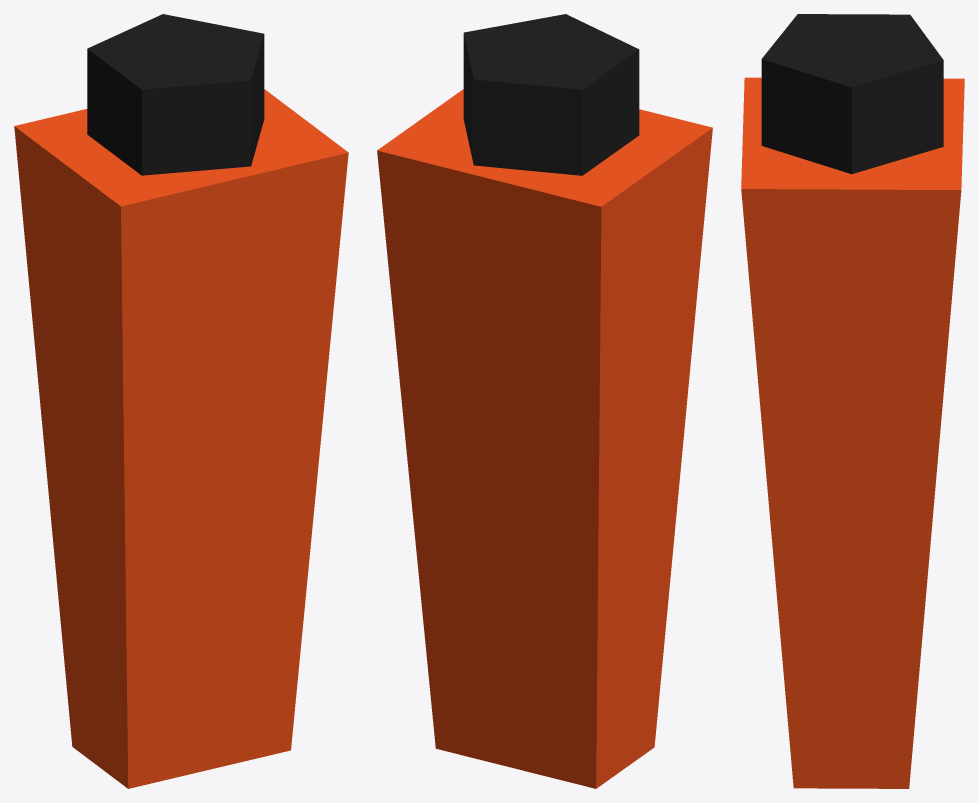
File: prop_064.glb
3 views of the same model, side by side, from view 1: azimuth 30°, elevation 25°; view 2: azimuth 150°, elevation 25°; view 3: azimuth 270°, elevation 25° (orthographic).
Parts seen in each view (by area): view 1: prop_064; view 2: prop_064; view 3: prop_064.
Boxes of the visible parts, x1,y1,x2,y2 form: prop_064: (14, 14, 348, 788); prop_064: (377, 14, 712, 788); prop_064: (741, 14, 964, 788).
Bounding box in the file's own units: 0.0671 × 0.1952 × 0.0563.
Materials: 1 (1 with a texture image).
